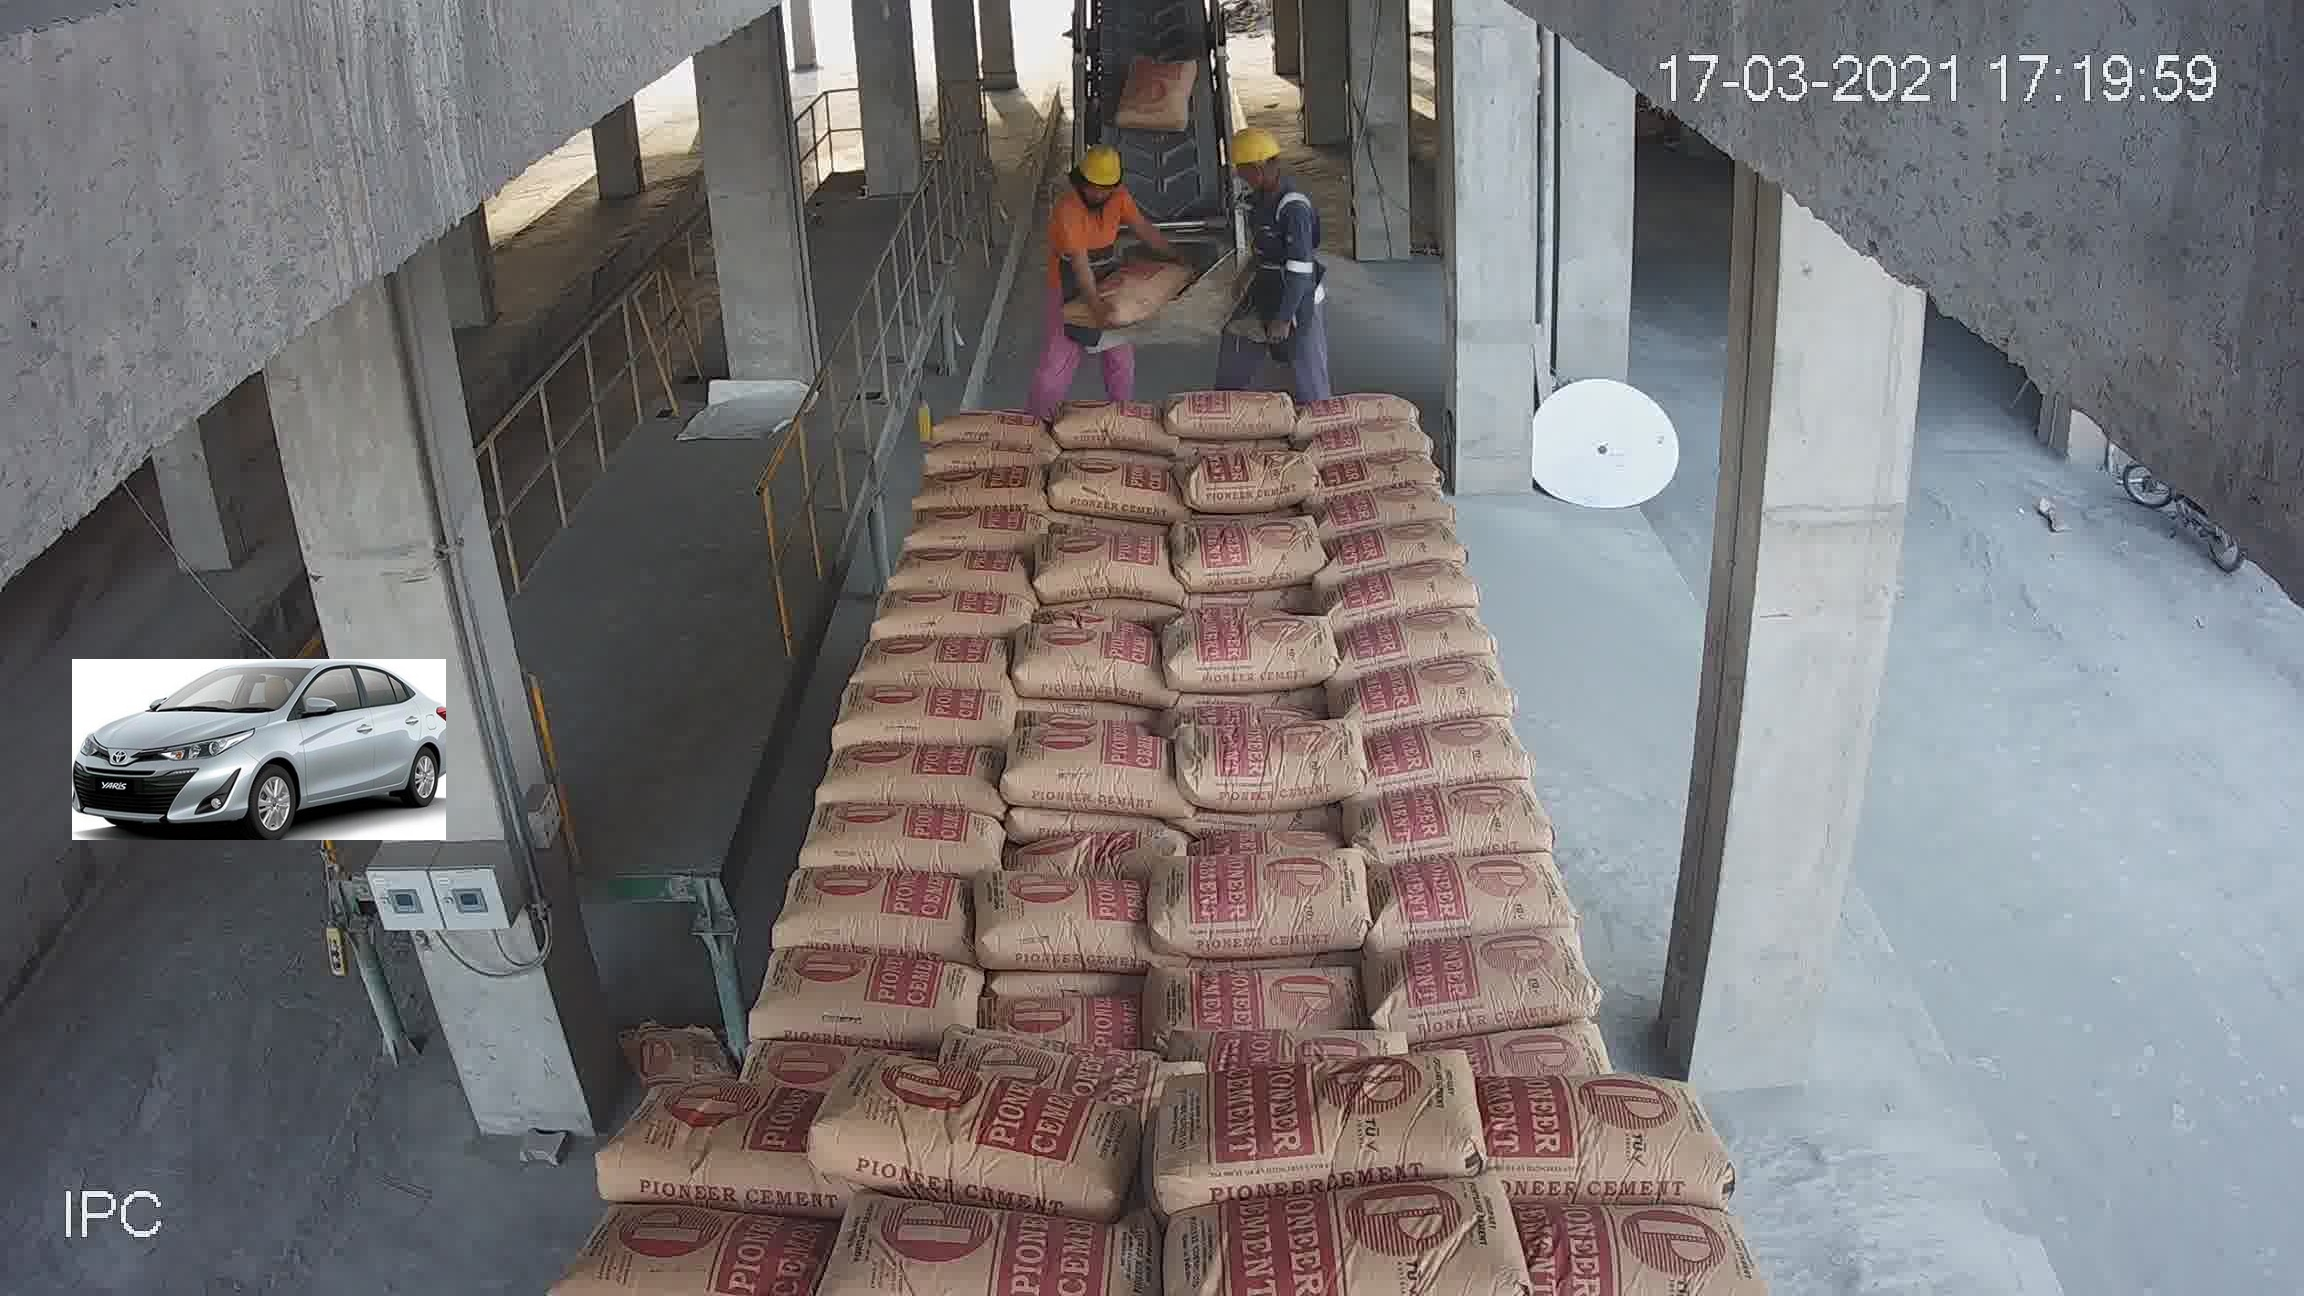bag: (1086, 247, 1233, 415)
bag_h: (1139, 1036, 1483, 1203), (1165, 1150, 1521, 1287), (798, 1052, 1135, 1192), (584, 1040, 839, 1201), (934, 733, 1146, 915), (1114, 980, 1427, 1100), (798, 1187, 1152, 1287), (1495, 1079, 1728, 1206), (560, 1203, 813, 1283), (1453, 991, 1674, 1082), (1491, 1214, 1780, 1282), (649, 997, 881, 1071), (1400, 843, 1582, 934), (1158, 921, 1347, 1006), (1415, 921, 1603, 1006), (1404, 760, 1551, 869), (891, 1014, 1131, 1074), (1138, 831, 1260, 930), (760, 866, 885, 948), (1410, 641, 1521, 729), (1431, 709, 1551, 790), (1143, 777, 1256, 855), (739, 943, 885, 1003), (788, 796, 881, 873), (1173, 722, 1264, 791), (1304, 297, 1396, 361), (1307, 342, 1426, 388), (1307, 366, 1412, 413), (1388, 473, 1468, 522), (1416, 600, 1487, 654), (1358, 407, 1435, 454)
belt: (1002, 19, 1312, 722)
